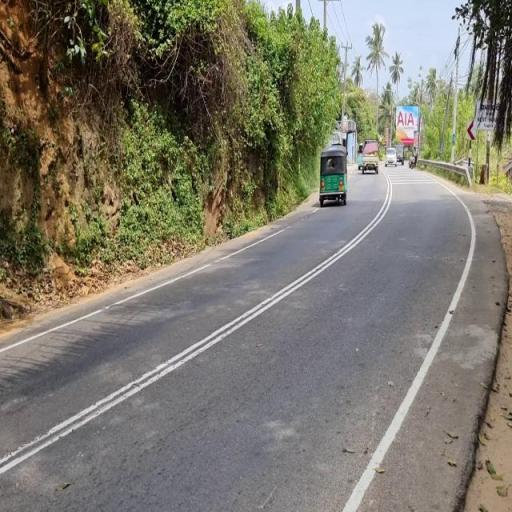double_white_line: (0, 168, 389, 485)
